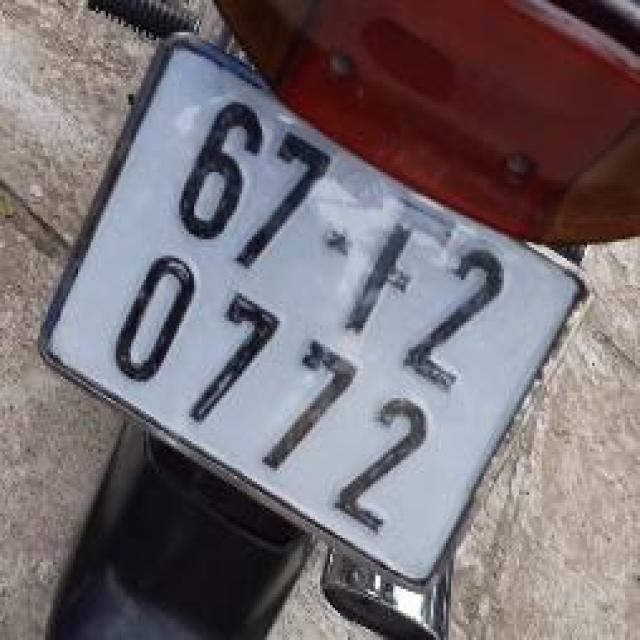0: (89, 236, 214, 403)
2: (390, 226, 531, 421), (312, 371, 463, 550)
6: (154, 83, 280, 258)
7: (237, 323, 375, 498), (220, 115, 349, 296), (167, 280, 298, 449)
F: (323, 179, 474, 366)
